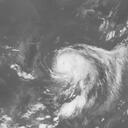cyclone: (53, 42, 100, 82)
